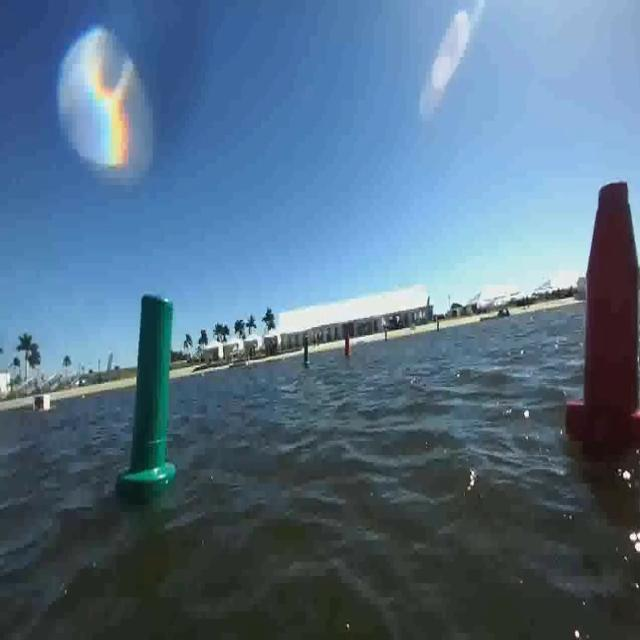green-column-buoy: (122, 287, 178, 496), (302, 335, 313, 367)
red-column-buoy: (561, 182, 638, 454), (344, 332, 354, 358)
